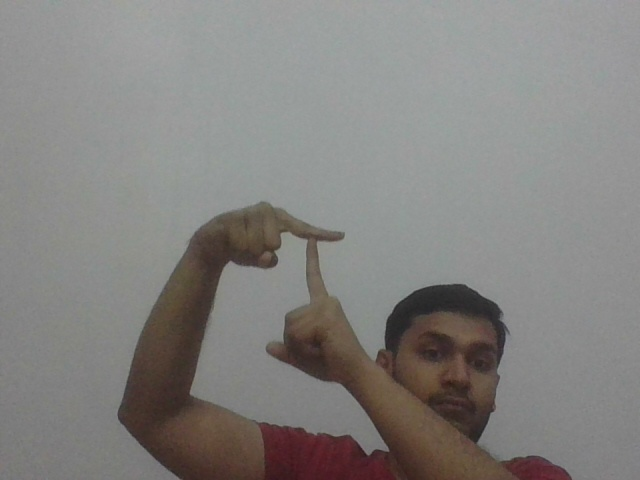T: (284, 207, 348, 297)
